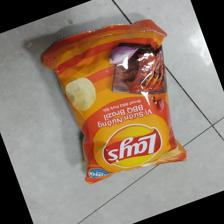Lays: (36, 19, 188, 182)
